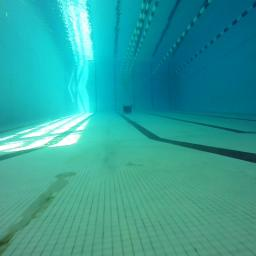front: (123, 103, 132, 114)
